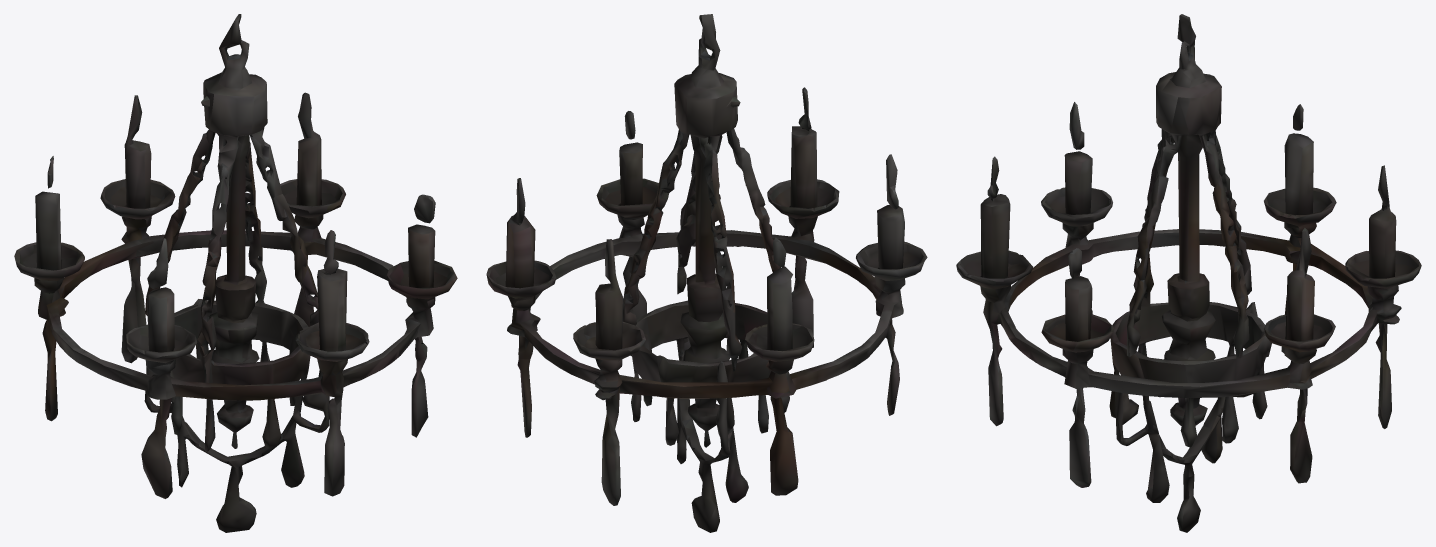
File: chipped-iron-chandelier-v002.glb
3 views of the same model, side by side, from view 1: azimuth 30°, elevation 25°; view 2: azimuth 150°, elevation 25°; view 3: azimuth 270°, elevation 25° (orthographic).
Parts seen in each view (by area): view 1: chipped-iron-chandelier; view 2: chipped-iron-chandelier; view 3: chipped-iron-chandelier.
Boxes of the visible parts, x1,y1,x2,y2 form: chipped-iron-chandelier: (14, 14, 457, 532); chipped-iron-chandelier: (486, 14, 927, 532); chipped-iron-chandelier: (956, 14, 1421, 532).
Size of the model in its own units: 0.7161 by 1.08 by 0.8896.
1 material, 1 textured.
